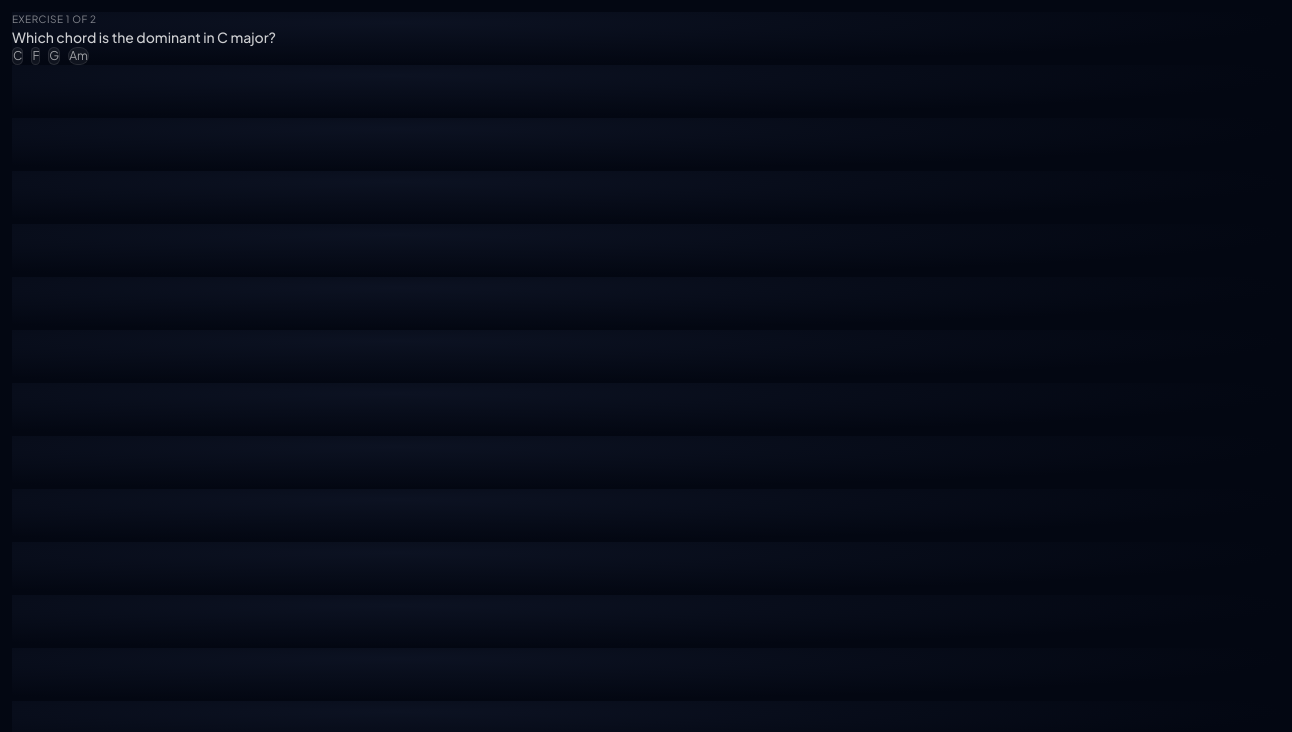
Test case: ExercisePanel › retry resets the exercise for another attempt
This screenshot has width=1292, height=732.
Click the button "F". click: point(36, 56)
box: [31,47,40,65]
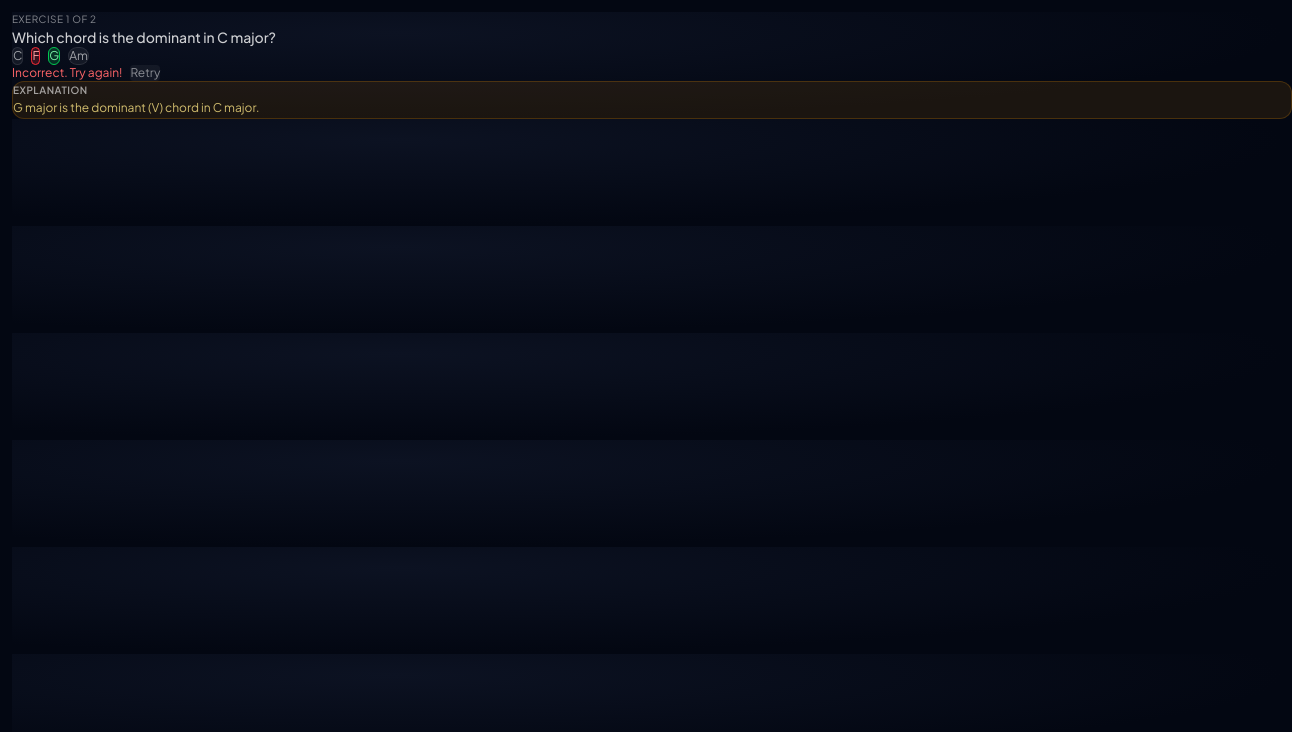
Click the button "Retry". click: point(145, 73)
box: [130,65,160,81]
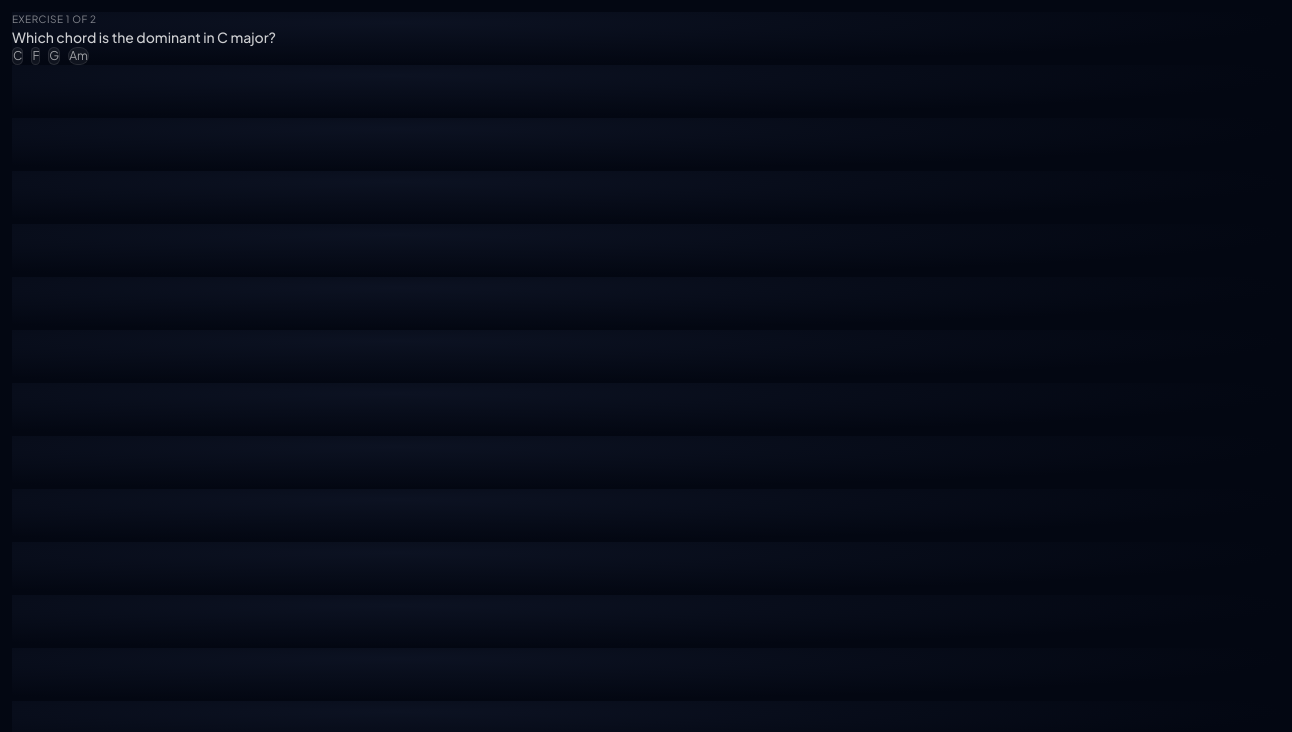
Expected: the text "Incorrect. Try again!" is gone
Expected: the button "G" is enabled, [48,47,60,65]
